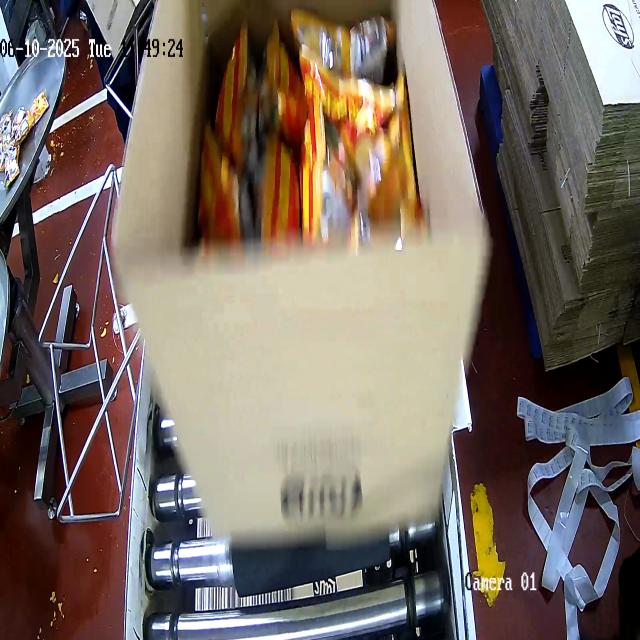FRENCH_CHEESE: (198, 11, 426, 245)
